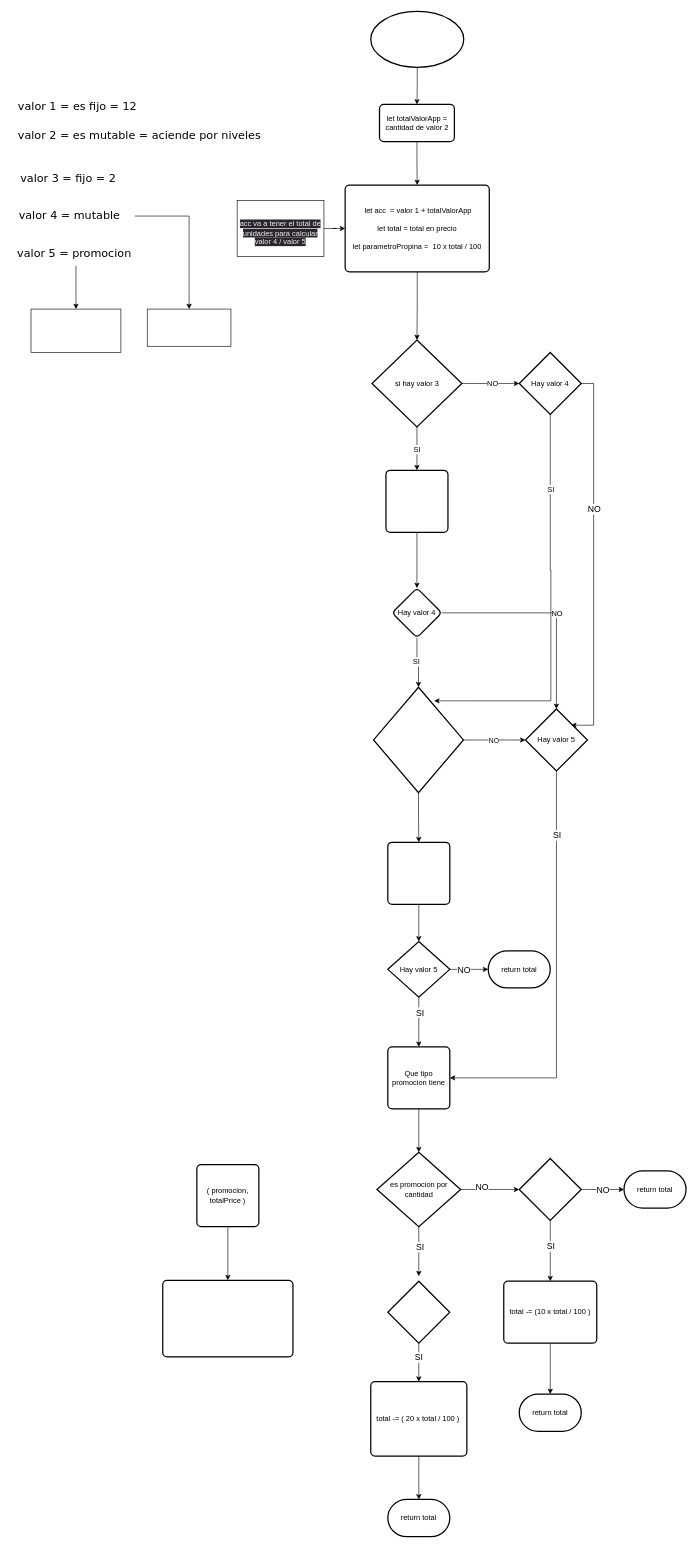
Image size: 697x1548. Some labels were removed from this diagram. The centre of each missing label's shape, as x and y in pixels:
"1° depende de la cantidad 2° depende del precio total" goes at point (75, 330).
"acc > 20" goes at point (418, 1312).
"if (promocion === 1 ) { let descuento = 20 x totalPrice / 100 }" goes at point (227, 1318).
"n > 10% del total del valor de los productos" goes at point (189, 327).
"total += valor 3" goes at point (416, 501).
"total += valor 4" goes at point (418, 873).
"total > 100" goes at point (550, 1189).
"valor 1, valor 2, valor 3, valor 4, valor 5" goes at point (417, 39).
"valor 4 > parametroPropina" goes at point (418, 739).
